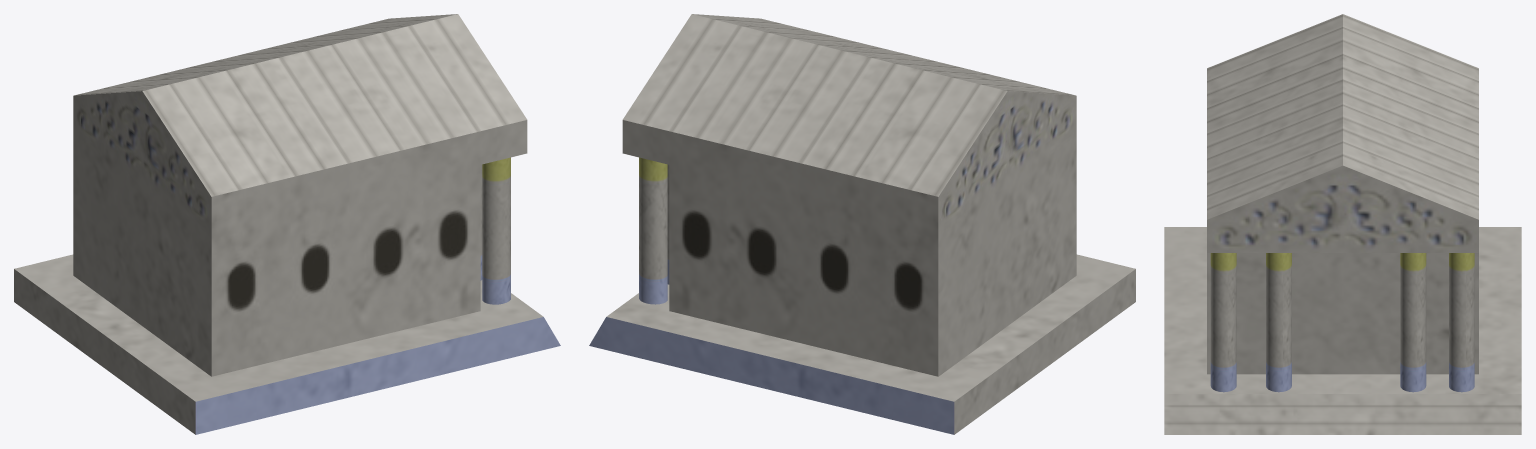
File: mausoleumBlue.fbx
The picture shows the model from 3 angles, left to right: view 1: azimuth 30°, elevation 25°; view 2: azimuth 150°, elevation 25°; view 3: azimuth 270°, elevation 25°; orthographic projection.
Visible parts, largest first — view 1: mausoleumBlue; view 2: mausoleumBlue; view 3: mausoleumBlue.
Boxes of the visible parts, x1,y1,x2,y2 form: mausoleumBlue: (14, 14, 560, 434); mausoleumBlue: (589, 14, 1135, 434); mausoleumBlue: (1164, 14, 1521, 434).
Bounding box in the file's own units: 7.79 × 5.47 × 6.71.
